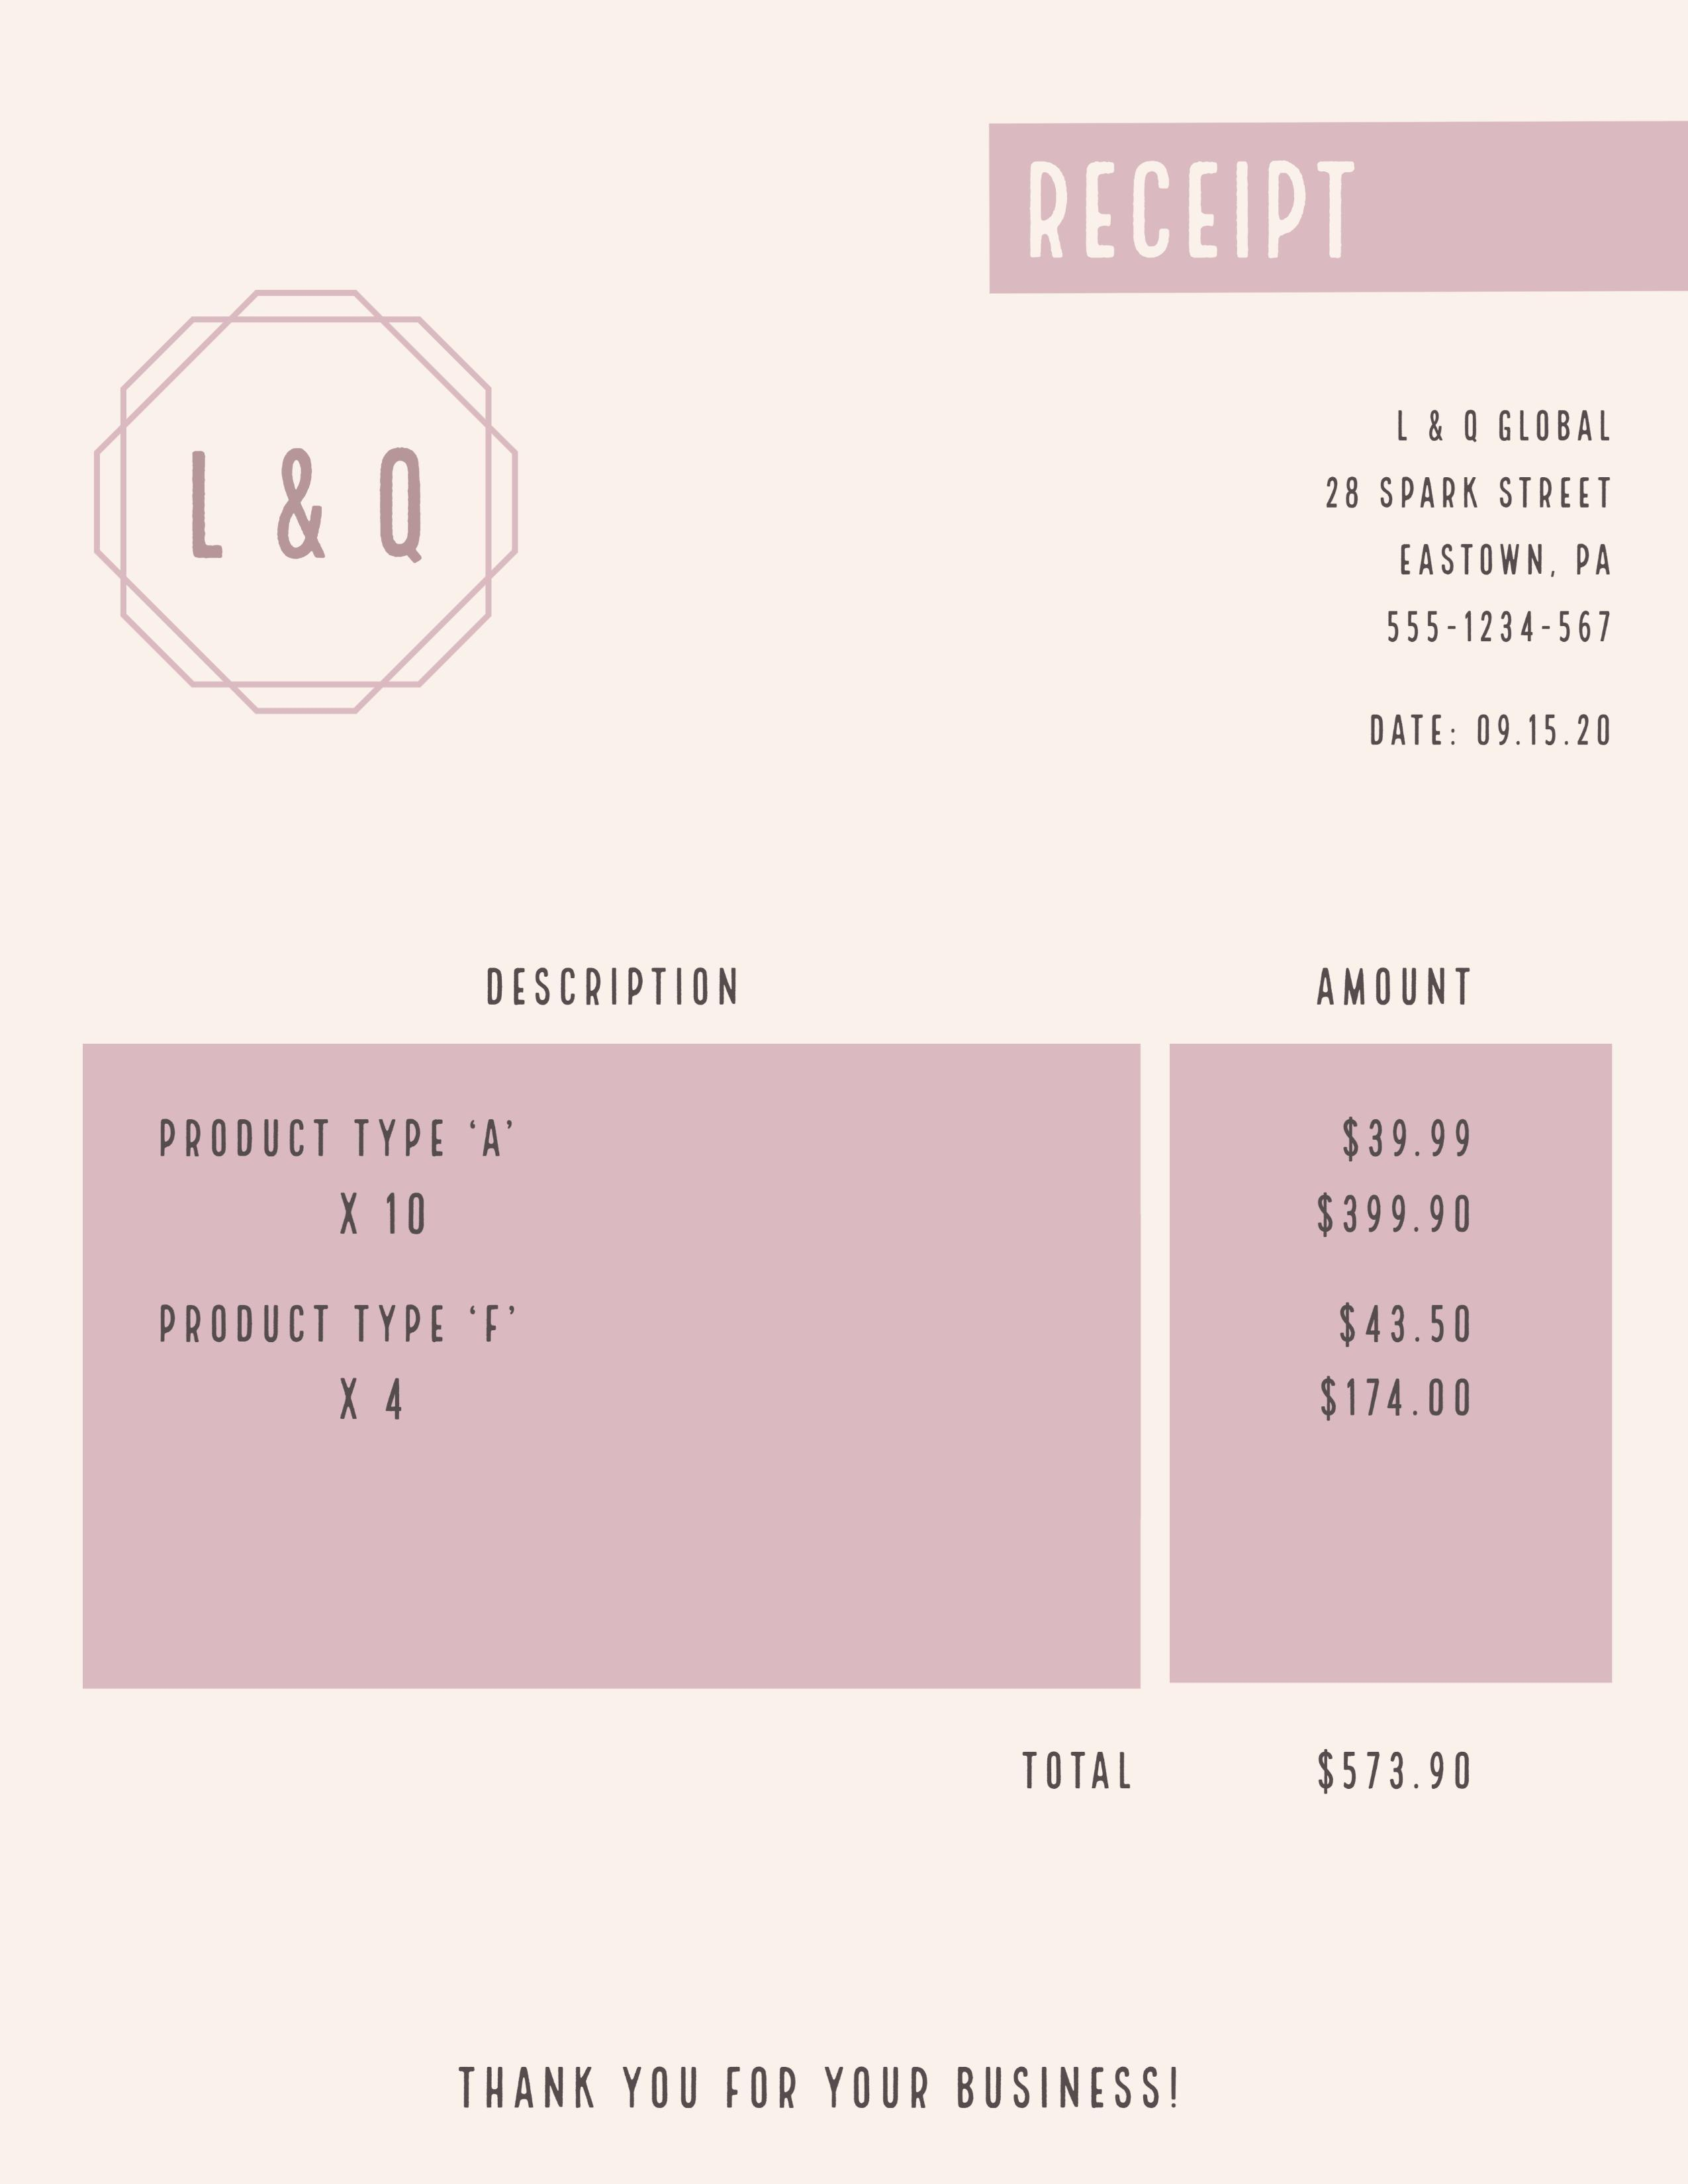ROI: (86, 950, 1613, 1684), (1303, 381, 1658, 655), (1018, 1748, 1496, 1795), (1348, 701, 1629, 763)
